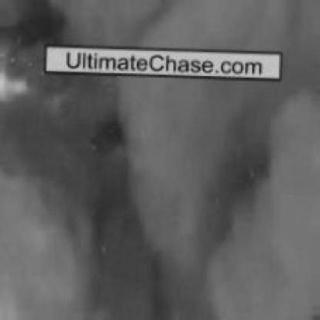Fire: (1, 54, 31, 113)
Smoke: (43, 76, 309, 312)
